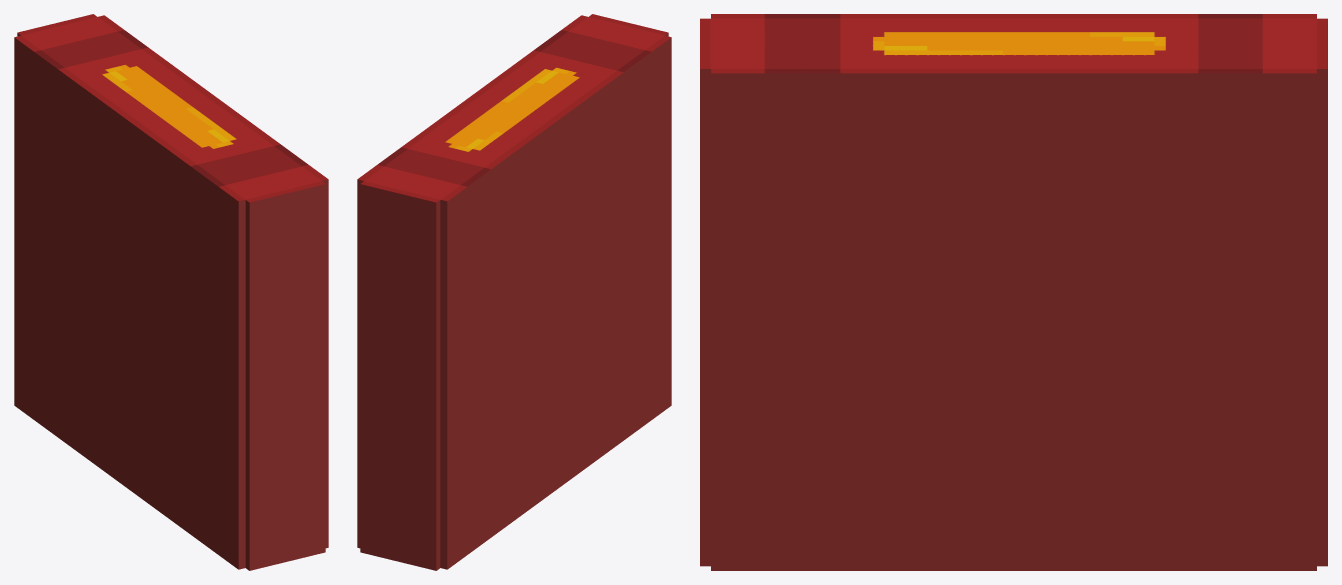
File: book3.glb
3 renders of one model, left to right at view 1: azimuth 30°, elevation 25°; view 2: azimuth 150°, elevation 25°; view 3: azimuth 270°, elevation 25°, orthographic. The views are drawn at different scales.
Parts seen in each view (by area): view 1: book3-col; view 2: book3-col; view 3: book3-col.
Boxes of the visible parts, left/top/right/bottom form: book3-col: left=14, top=14, right=328, bottom=570; book3-col: left=357, top=14, right=671, bottom=570; book3-col: left=700, top=14, right=1327, bottom=570.
Size of the model in its own units: 0.2031 by 0.7926 by 0.9062.
Materials: 2 (1 with a texture image).
